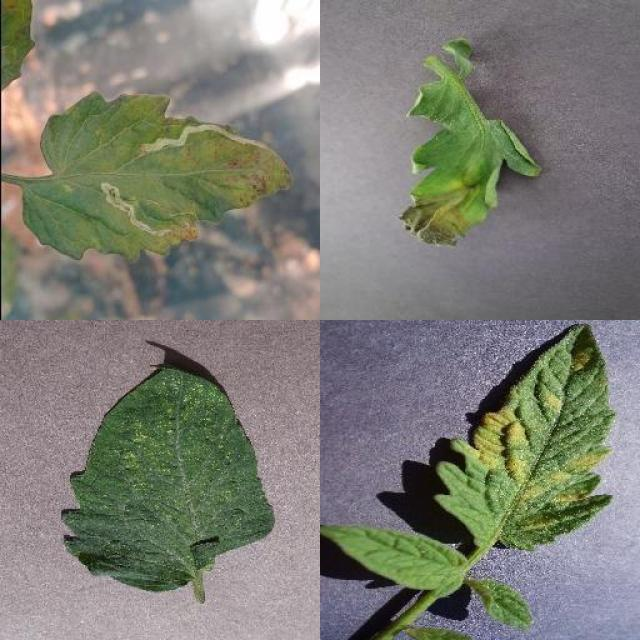Healthy: (320, 522, 468, 592)
Late Blight: (398, 79, 542, 250)
